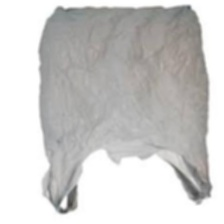plastic_bag: (26, 2, 216, 218)
